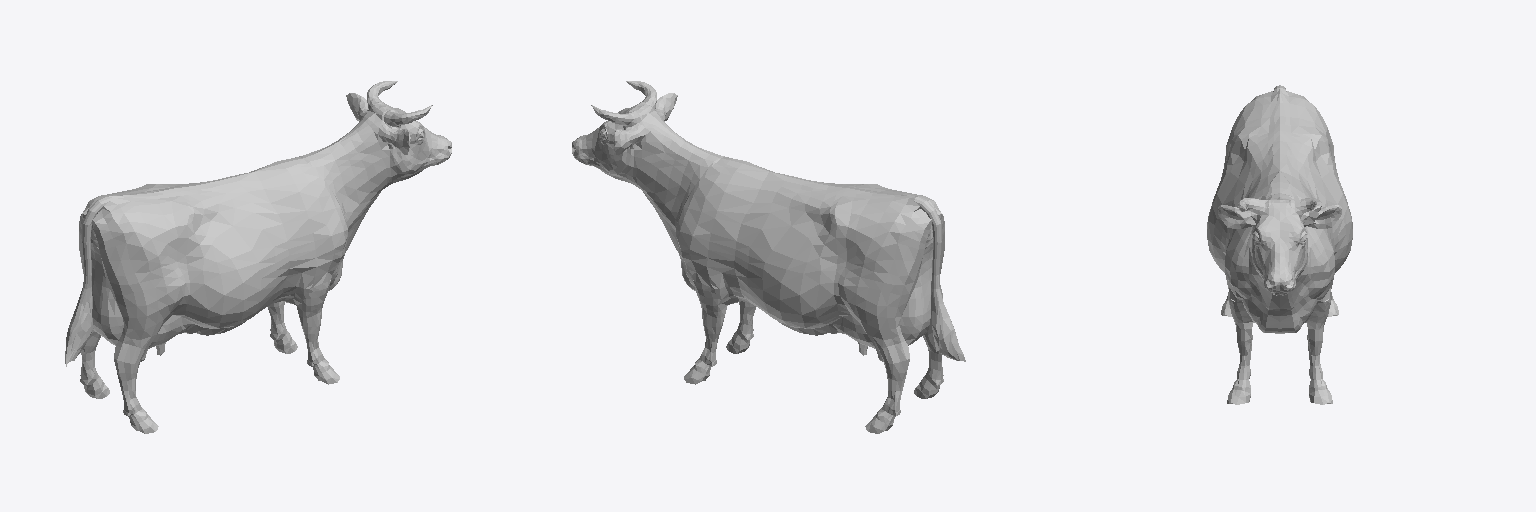
File: cow.obj
The picture shows the model from 3 angles: view 1: azimuth 30°, elevation 25°; view 2: azimuth 150°, elevation 25°; view 3: azimuth 270°, elevation 25°; orthographic projection.
Bounding box in the file's own units: 10.44 × 6.4 × 3.4.